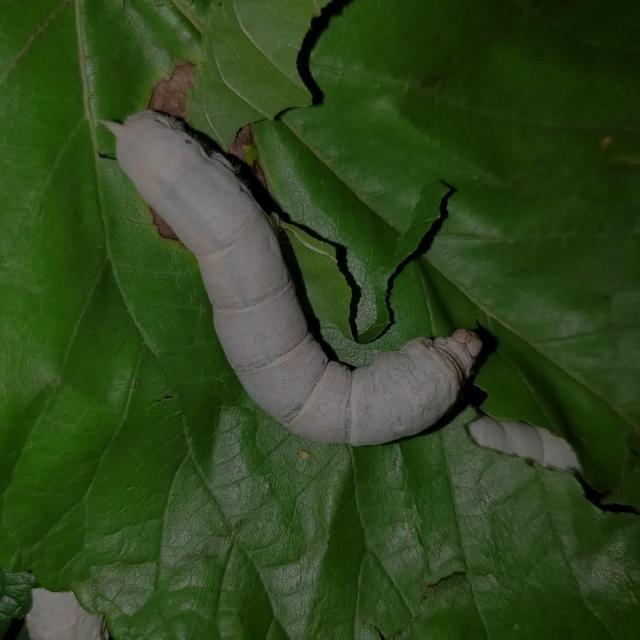Healthy: (73, 81, 515, 466)
